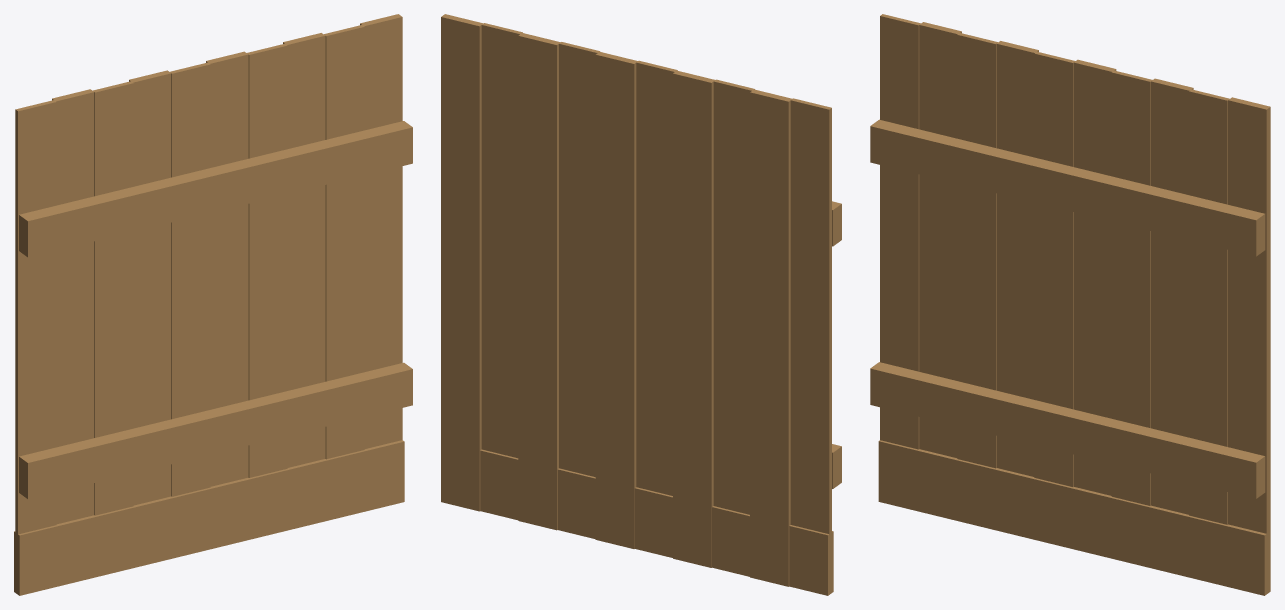
File: boundary.closeboard.h1200.glb
The picture shows the model from 3 angles, left to right: view 1: azimuth 30°, elevation 25°; view 2: azimuth 150°, elevation 25°; view 3: azimuth 330°, elevation 25°; orthographic projection.
Parts seen in each view (by area): view 1: main__softwood; view 2: main__softwood; view 3: main__softwood.
Boxes of the visible parts, x1,y1,x2,y2 form: main__softwood: (14,14,412,595); main__softwood: (441,14,841,595); main__softwood: (870,14,1270,595).
Bounding box in the file's own units: 1 × 1.2 × 0.065.
